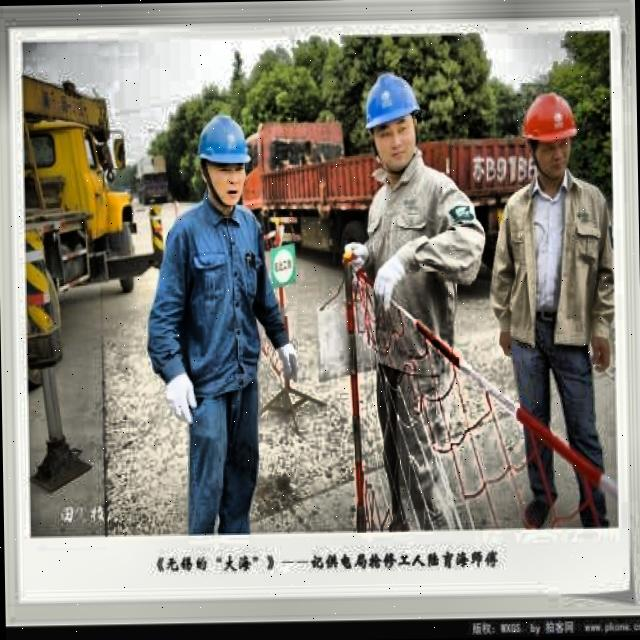helmet: (356, 62, 426, 180), (191, 105, 254, 215), (518, 84, 582, 184)
